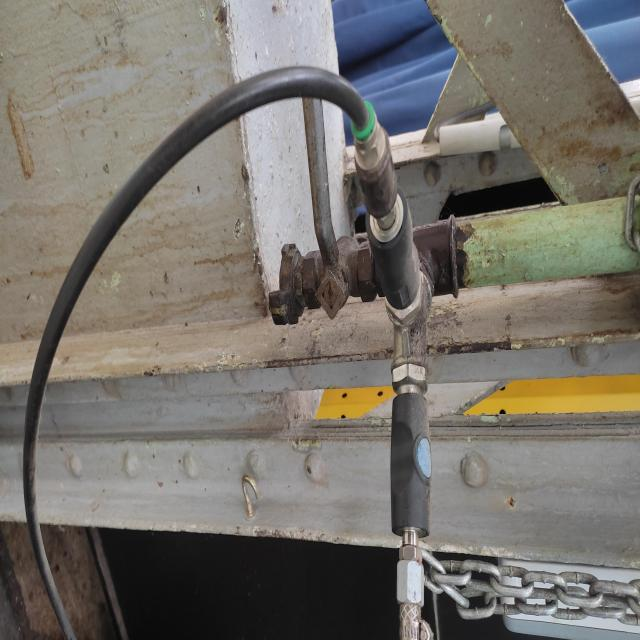closed_valve: (299, 66, 375, 324)
